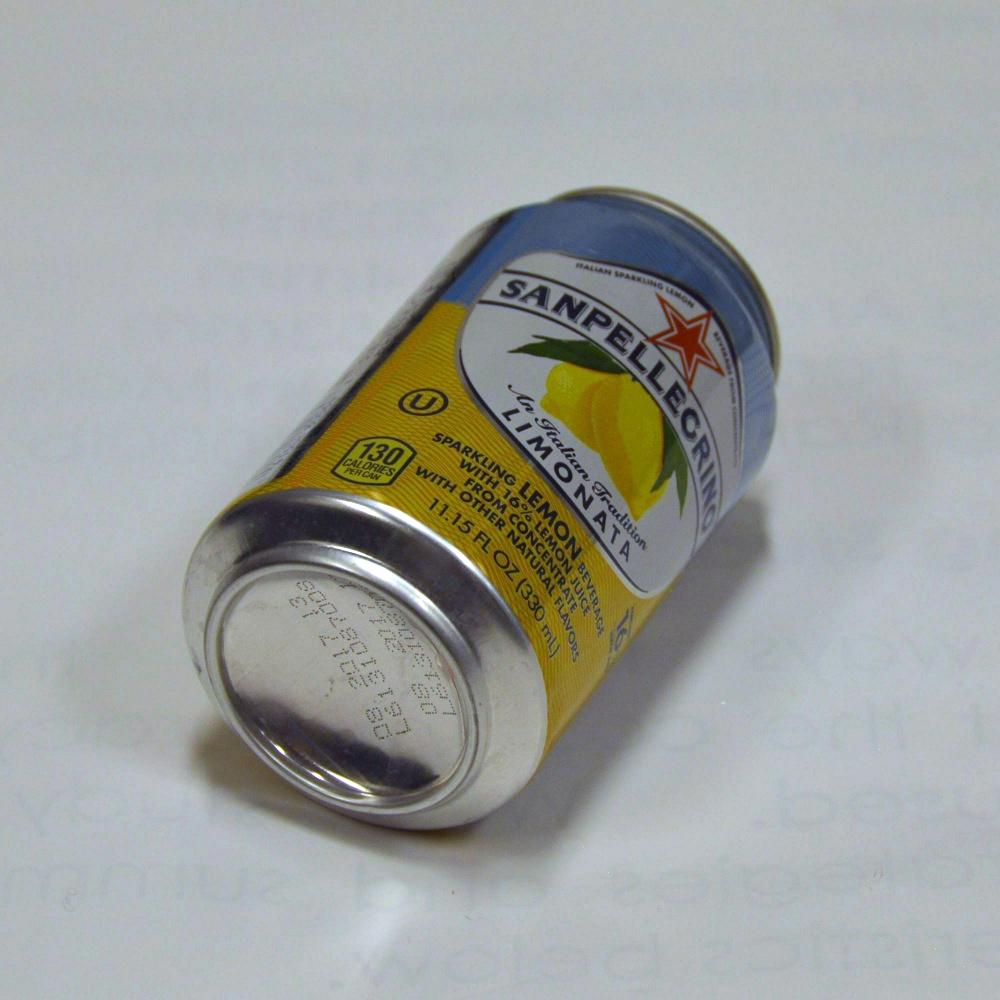Metal: (130, 105, 811, 855)
